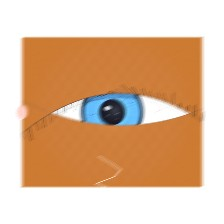foreign_body_visible: (80, 123, 109, 146)
